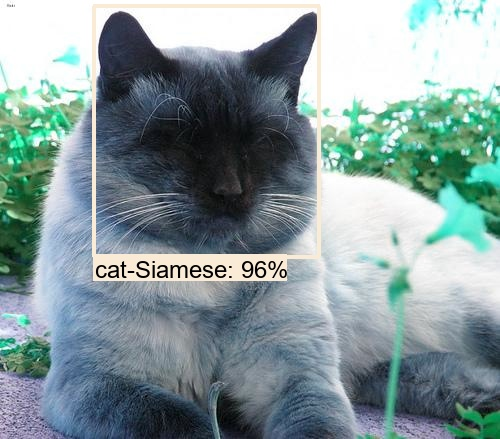cat-Siamese: (98, 11, 317, 242)
